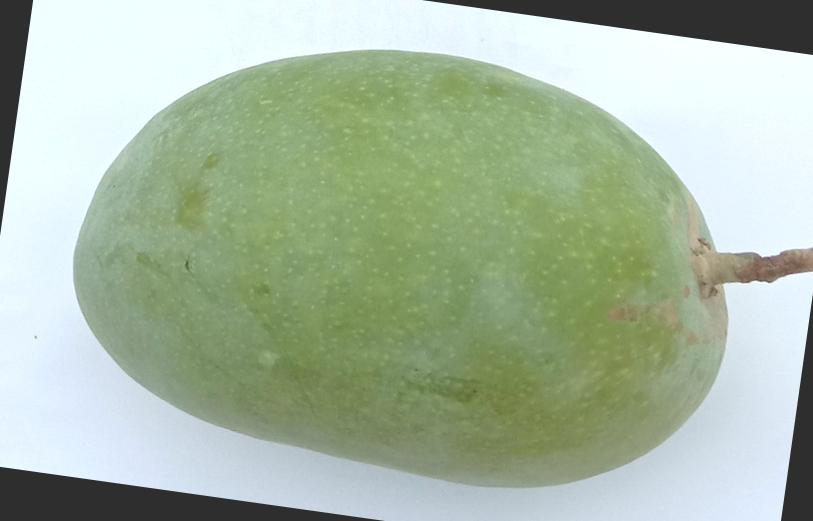Mango Unripe: (12, 0, 813, 521)
